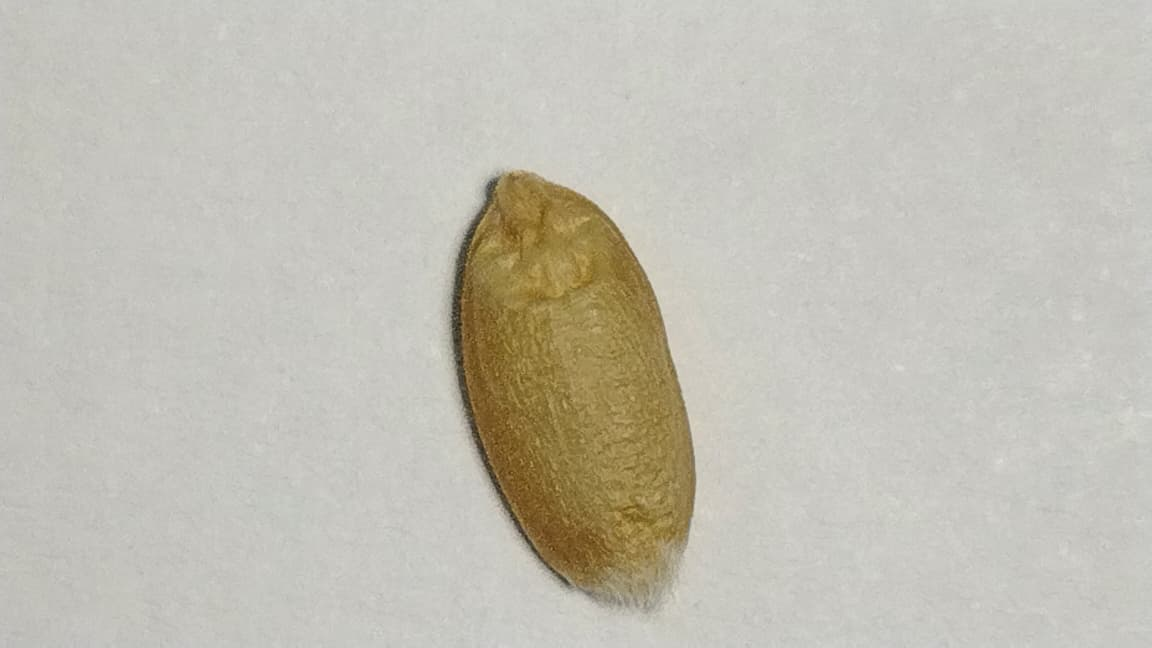healthy: (465, 172, 694, 605)
